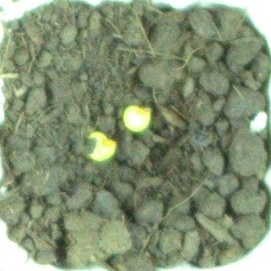pepper seed: (46, 38, 198, 171), (25, 48, 143, 212)
